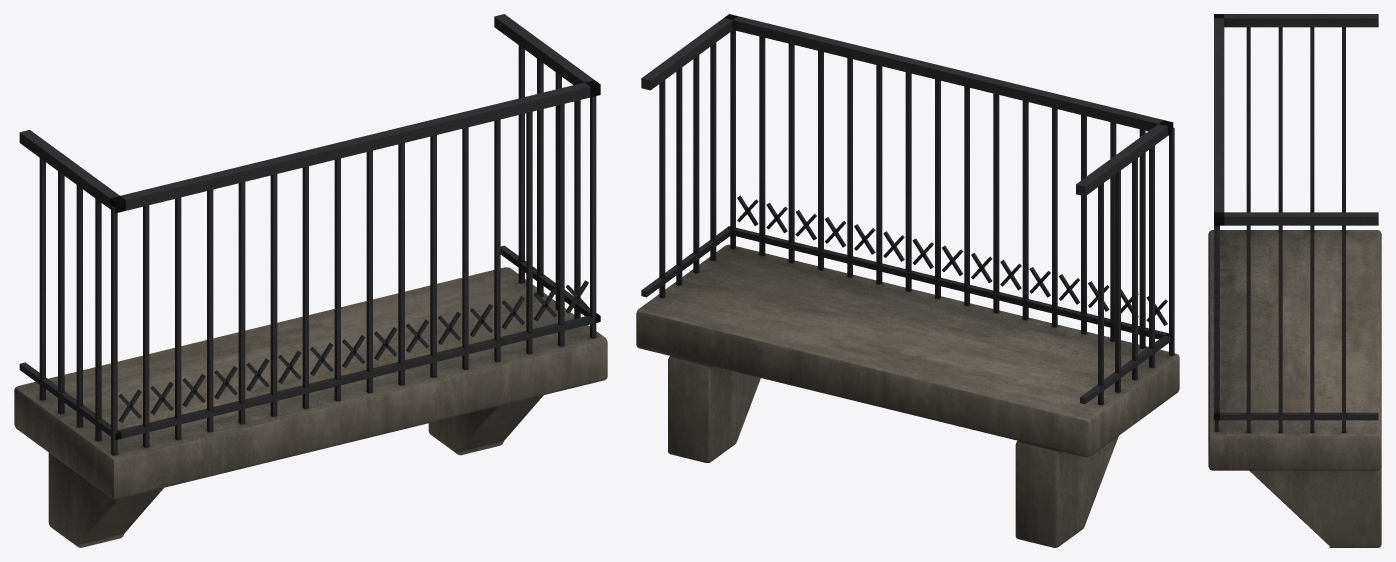
Rendered from balcony_iron.glb.
3 renders of one model, left to right at view 1: azimuth 30°, elevation 25°; view 2: azimuth 150°, elevation 25°; view 3: azimuth 270°, elevation 25°, orthographic. The views are drawn at different scales.
Visible parts, largest first — view 1: balcony_iron; view 2: balcony_iron; view 3: balcony_iron.
Part boxes in pixels (x1,y1,x2,y2): balcony_iron: (14,14,607,547); balcony_iron: (636,14,1179,547); balcony_iron: (1208,14,1381,547).
Bounding box in the file's own units: 1.7 × 1.32 × 0.6.
Materials: 1 (1 with a texture image).
